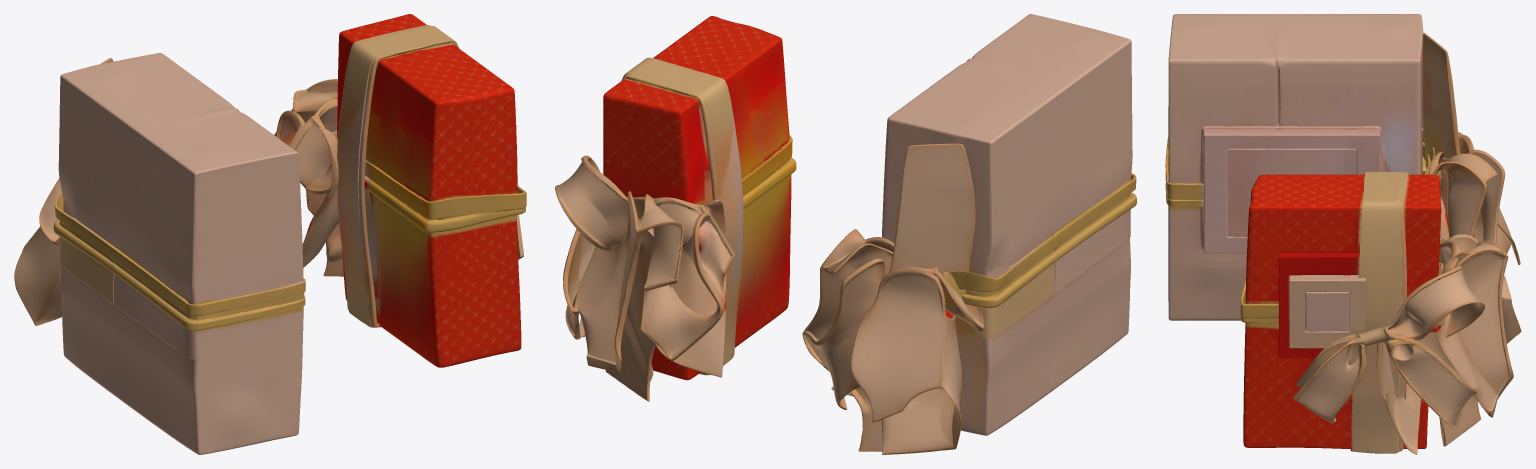
3 views of the same model, side by side, from view 1: azimuth 30°, elevation 25°; view 2: azimuth 150°, elevation 25°; view 3: azimuth 270°, elevation 25° (orthographic). The views are drawn at different scales.
Parts seen in each view (by area): view 1: tripo_node_818be9bb-1582-4ff4-a7c3-32d2112ae549; view 2: tripo_node_818be9bb-1582-4ff4-a7c3-32d2112ae549; view 3: tripo_node_818be9bb-1582-4ff4-a7c3-32d2112ae549.
Part boxes in pixels (<box>): tripo_node_818be9bb-1582-4ff4-a7c3-32d2112ae549: <box>14,14,526,454</box>; tripo_node_818be9bb-1582-4ff4-a7c3-32d2112ae549: <box>555,14,1136,454</box>; tripo_node_818be9bb-1582-4ff4-a7c3-32d2112ae549: <box>1165,14,1521,454</box>.
Bounding box in the file's own units: 1 × 0.7041 × 0.8192.
1 material, 1 textured.
